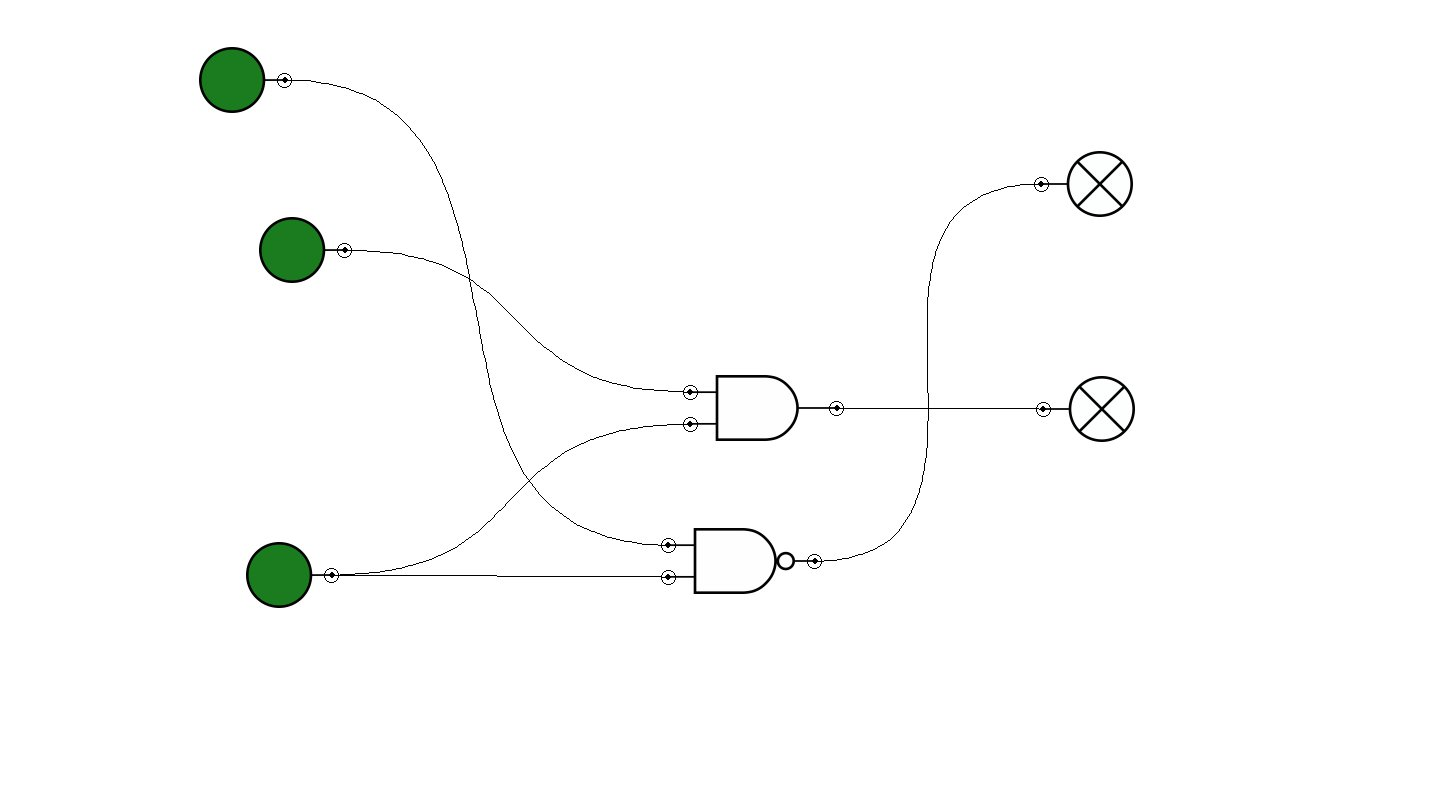and: (683, 375, 844, 441)
bulb: (1036, 376, 1135, 442), (1034, 151, 1133, 217)
nand: (661, 528, 822, 594)
switch_True: (259, 217, 352, 283), (199, 47, 292, 113), (246, 542, 339, 608)
